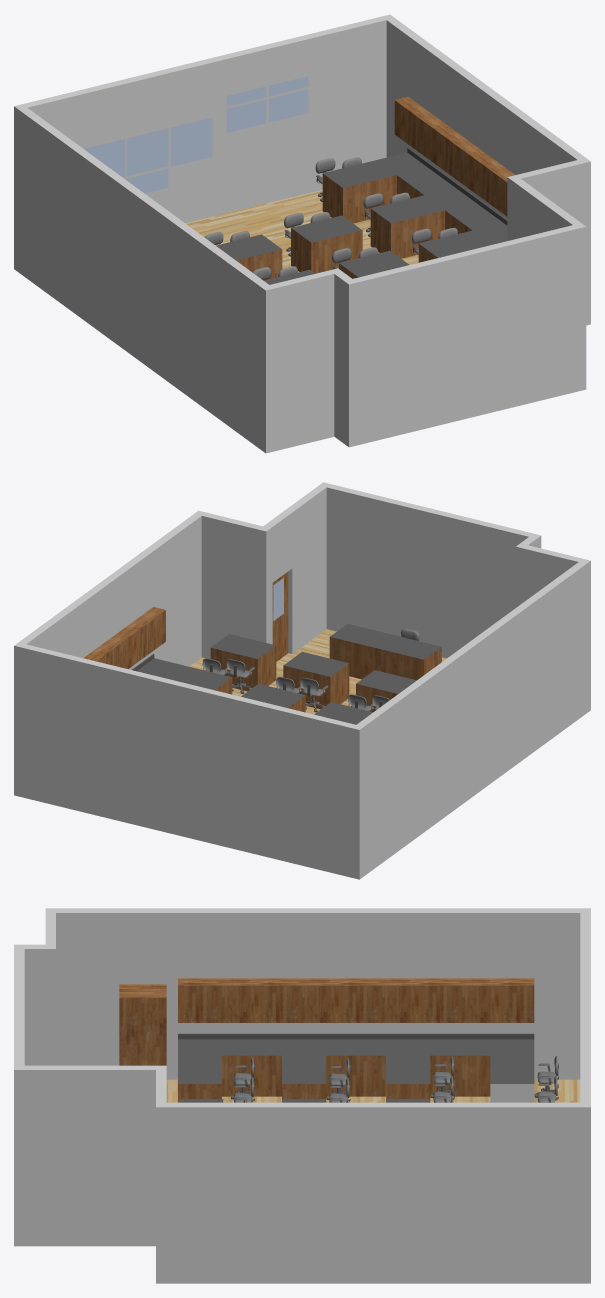
Rendered from room.gltf.
3 views of the same model, one above another, from view 1: azimuth 30°, elevation 25°; view 2: azimuth 150°, elevation 25°; view 3: azimuth 270°, elevation 25° (orthographic). The views are drawn at different scales.
Parts seen in each view (by area): view 1: 12d61fc7-0a54-45d5-bcbe-d41f851ccef9; view 2: 12d61fc7-0a54-45d5-bcbe-d41f851ccef9; view 3: 12d61fc7-0a54-45d5-bcbe-d41f851ccef9.
Part boxes in pixels (box(x1,y1,x2,y2)): 12d61fc7-0a54-45d5-bcbe-d41f851ccef9: box(14, 14, 590, 453); 12d61fc7-0a54-45d5-bcbe-d41f851ccef9: box(14, 482, 590, 879); 12d61fc7-0a54-45d5-bcbe-d41f851ccef9: box(14, 908, 590, 1283).
Size of the model in its own units: 8.94 by 3.7 by 10.97.
8 materials, 2 textured.
